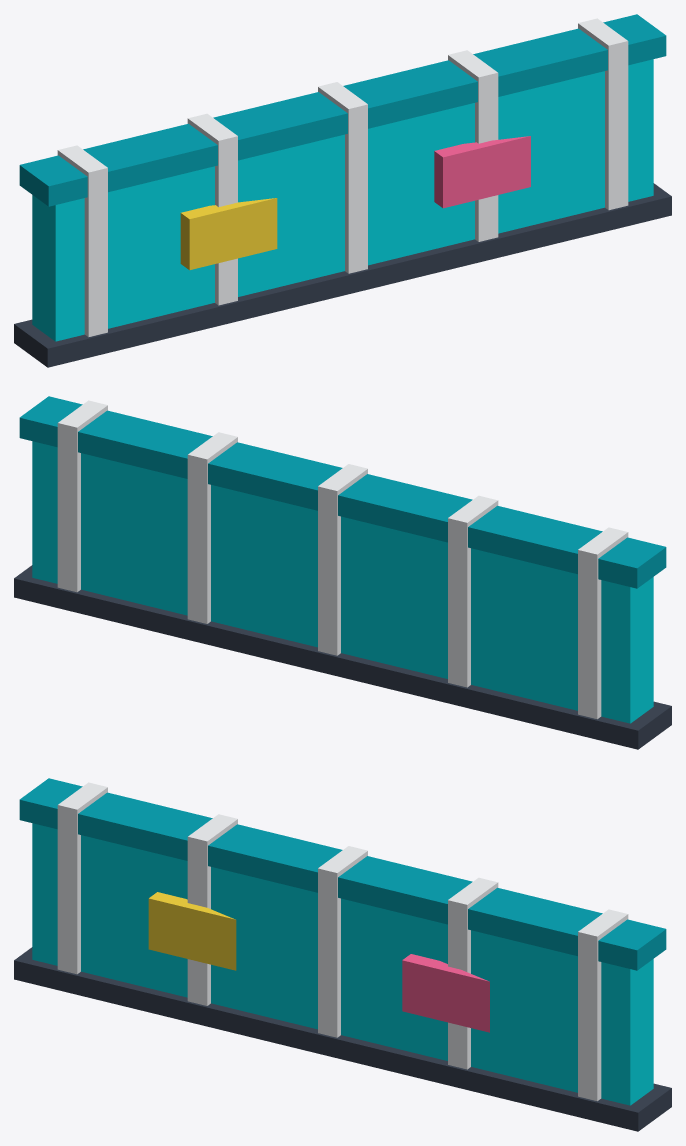
Rendered from Barrier_Block.fbx.
The picture shows the model from 3 angles, top to bottom: view 1: azimuth 30°, elevation 25°; view 2: azimuth 150°, elevation 25°; view 3: azimuth 330°, elevation 25°; orthographic projection.
Parts seen in each view (by area): view 1: Barrier_Block; view 2: Barrier_Block; view 3: Barrier_Block.
Boxes of the visible parts, box(x1,y1,x2,y2) form: Barrier_Block: box(14, 14, 671, 367); Barrier_Block: box(14, 396, 671, 749); Barrier_Block: box(14, 778, 671, 1131).
Size of the model in its own units: 960 by 270 by 99.5.
